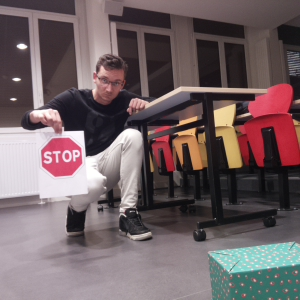small: (207, 240, 300, 300)
